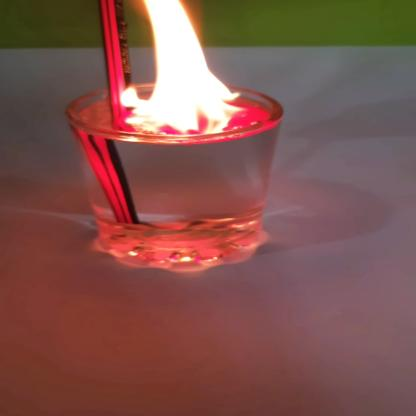Fire: (112, 2, 237, 136)
